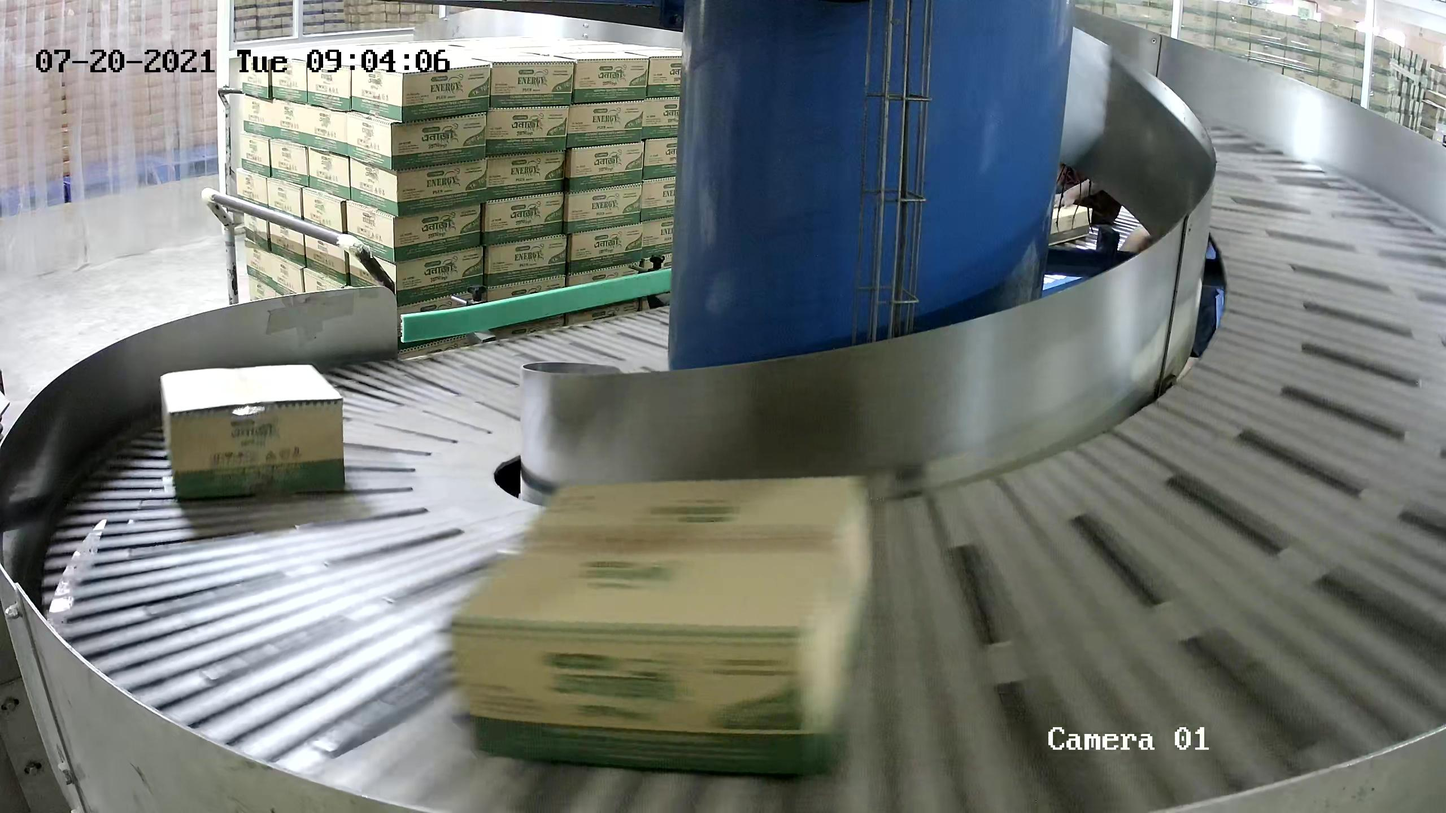Box: (445, 471, 874, 781), (158, 362, 347, 497)
